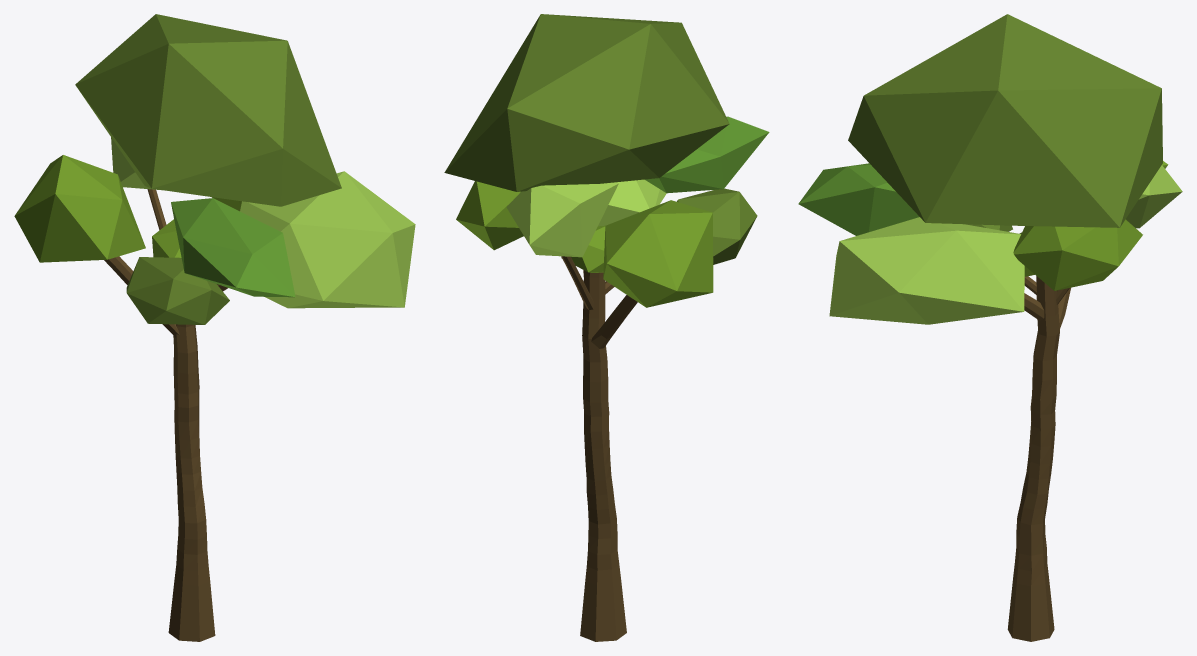
The model's file is Urwaldbaum1.fbx.
3 renders of one model, left to right at view 1: azimuth 30°, elevation 25°; view 2: azimuth 150°, elevation 25°; view 3: azimuth 270°, elevation 25°, orthographic.
Visible parts, largest first — view 1: Platonischer_Körper_8, Kegel_4; view 2: Platonischer_Körper_8, Kegel_4; view 3: Platonischer_Körper_8, Kegel_4.
Part boxes in pixels (left/top/right/bottom): Platonischer_Körper_8: left=14, top=14, right=415, bottom=324; Kegel_4: left=104, top=189, right=227, bottom=641; Platonischer_Körper_8: left=444, top=14, right=769, bottom=307; Kegel_4: left=561, top=256, right=637, bottom=641; Platonischer_Körper_8: left=798, top=14, right=1182, bottom=324; Kegel_4: left=1007, top=276, right=1070, bottom=641.
Size of the model in its own units: 1552 by 3124 by 1813.
